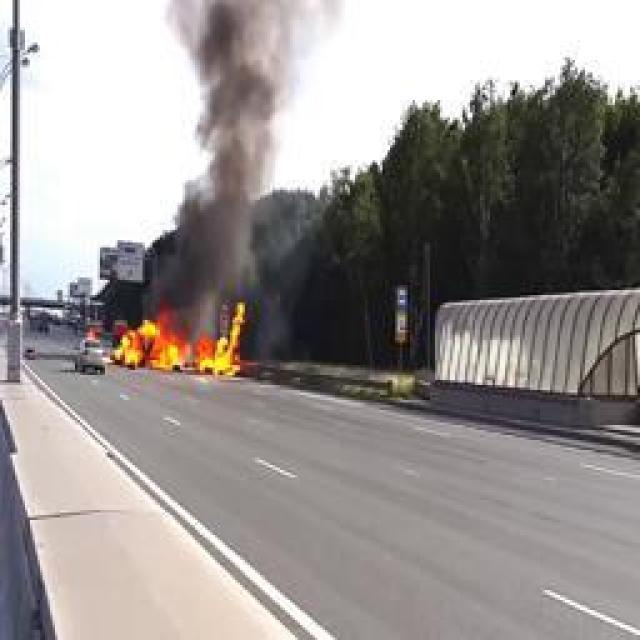Fire: (119, 301, 244, 379)
